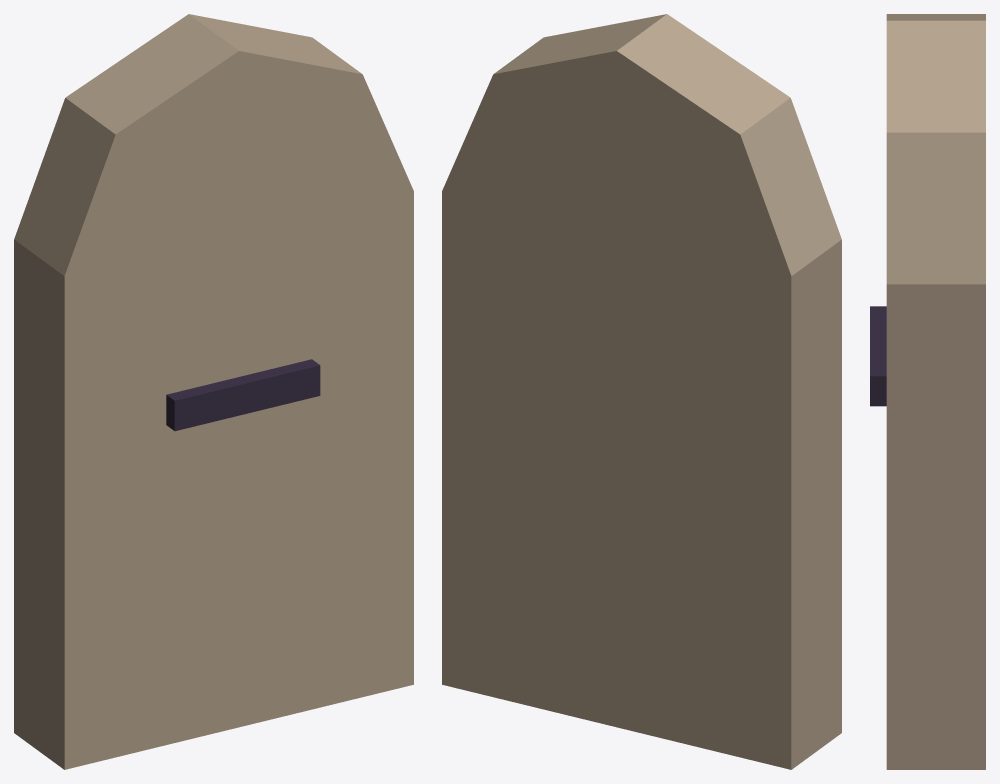
The model's file is headstone.glb.
3 renders of one model, left to right at view 1: azimuth 30°, elevation 25°; view 2: azimuth 150°, elevation 25°; view 3: azimuth 270°, elevation 25°, orthographic.
Parts seen in each view (by area): view 1: graveyard-headstone; view 2: graveyard-headstone; view 3: graveyard-headstone.
Boxes of the visible parts, x1,y1,x2,y2 form: graveyard-headstone: (14,14,413,769); graveyard-headstone: (442,14,841,769); graveyard-headstone: (870,14,985,769).
Size of the model in its own units: 0.24 by 0.444 by 0.07.
